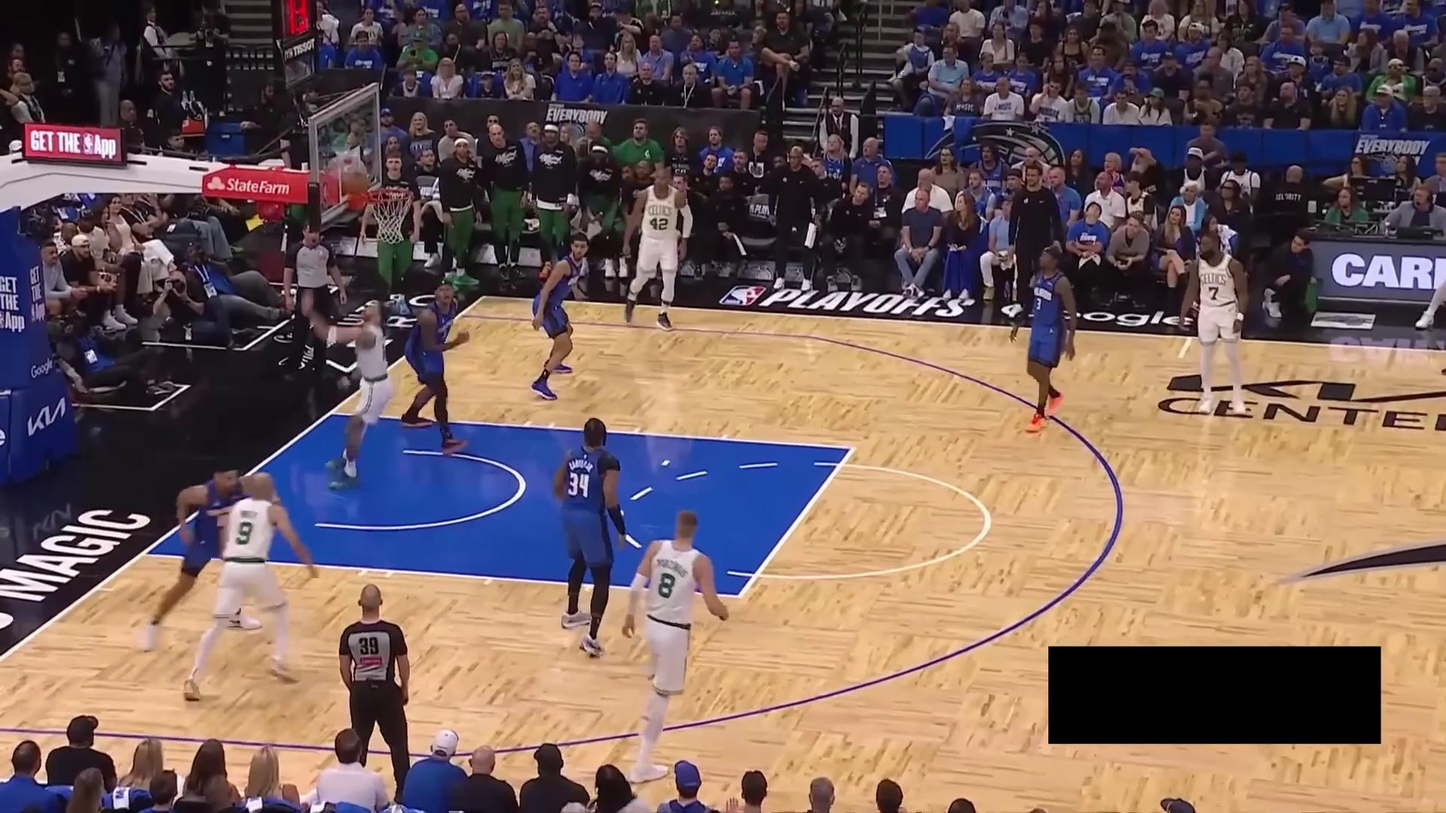ball: (343, 171, 368, 195)
number: (566, 470, 592, 499), (654, 571, 676, 599), (236, 518, 253, 545), (650, 217, 669, 231), (1208, 286, 1219, 301), (1036, 297, 1042, 311)
player: (179, 466, 323, 702), (624, 510, 733, 789), (142, 455, 262, 655), (552, 414, 631, 661), (304, 293, 392, 490), (1174, 224, 1252, 420), (1007, 242, 1080, 436), (618, 158, 697, 334), (396, 278, 470, 456), (527, 228, 596, 399)
referee: (333, 577, 419, 806), (279, 214, 349, 385)
rim: (365, 185, 416, 206)
